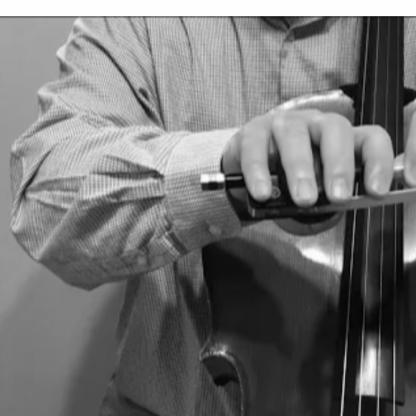good: (224, 83, 394, 226)
